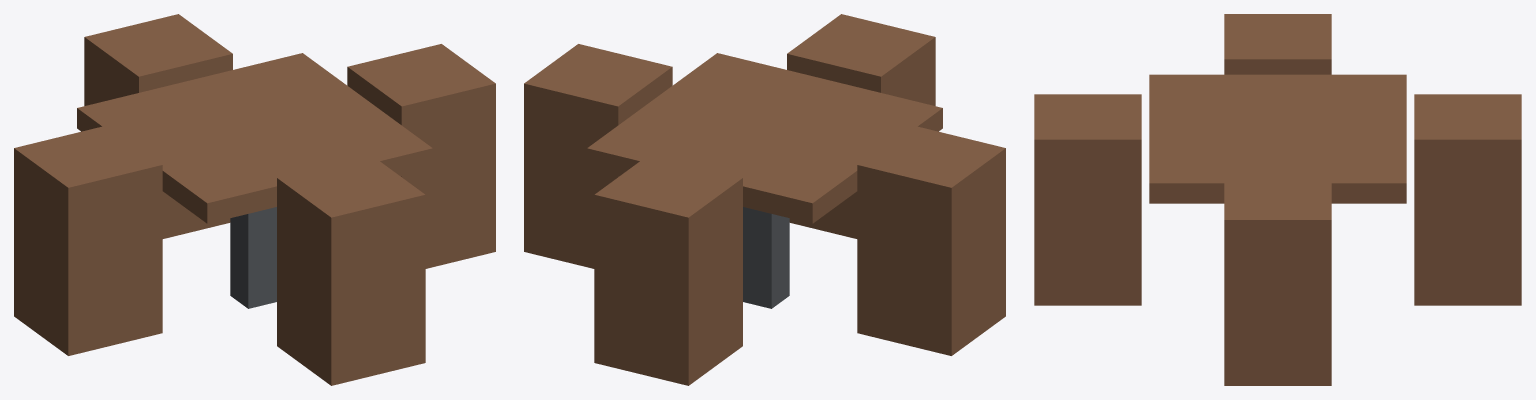
File: bh_cafe_table_chair_set_a_01.glb
The picture shows the model from 3 angles, left to right: view 1: azimuth 30°, elevation 25°; view 2: azimuth 150°, elevation 25°; view 3: azimuth 270°, elevation 25°; orthographic projection.
Visible parts, largest first — view 1: bh_cafe_table_chair_set_a_01_table_top, bh_cafe_table_chair_set_a_01_chair_0, bh_cafe_table_chair_set_a_01_chair_2, bh_cafe_table_chair_set_a_01_chair_1, bh_cafe_table_chair_set_a_01_chair_3, bh_cafe_table_chair_set_a_01_table_base; view 2: bh_cafe_table_chair_set_a_01_table_top, bh_cafe_table_chair_set_a_01_chair_0, bh_cafe_table_chair_set_a_01_chair_3, bh_cafe_table_chair_set_a_01_chair_1, bh_cafe_table_chair_set_a_01_chair_2, bh_cafe_table_chair_set_a_01_table_base; view 3: bh_cafe_table_chair_set_a_01_table_top, bh_cafe_table_chair_set_a_01_chair_1, bh_cafe_table_chair_set_a_01_chair_2, bh_cafe_table_chair_set_a_01_chair_3, bh_cafe_table_chair_set_a_01_chair_0.
Part boxes in pixels (x1=…): bh_cafe_table_chair_set_a_01_table_top: x1=77, y1=53, x2=432, y2=223; bh_cafe_table_chair_set_a_01_chair_0: x1=14, y1=125, x2=162, y2=355; bh_cafe_table_chair_set_a_01_chair_2: x1=277, y1=155, x2=425, y2=385; bh_cafe_table_chair_set_a_01_chair_1: x1=347, y1=44, x2=495, y2=268; bh_cafe_table_chair_set_a_01_chair_3: x1=84, y1=14, x2=232, y2=238; bh_cafe_table_chair_set_a_01_table_base: x1=230, y1=207, x2=276, y2=308; bh_cafe_table_chair_set_a_01_table_top: x1=587, y1=53, x2=942, y2=223; bh_cafe_table_chair_set_a_01_chair_0: x1=857, y1=125, x2=1005, y2=355; bh_cafe_table_chair_set_a_01_chair_3: x1=594, y1=155, x2=742, y2=385; bh_cafe_table_chair_set_a_01_chair_1: x1=524, y1=44, x2=672, y2=268; bh_cafe_table_chair_set_a_01_chair_2: x1=787, y1=14, x2=935, y2=238; bh_cafe_table_chair_set_a_01_table_base: x1=743, y1=207, x2=789, y2=308; bh_cafe_table_chair_set_a_01_table_top: x1=1149, y1=74, x2=1406, y2=203; bh_cafe_table_chair_set_a_01_chair_1: x1=1224, y1=174, x2=1331, y2=385; bh_cafe_table_chair_set_a_01_chair_2: x1=1034, y1=94, x2=1141, y2=305; bh_cafe_table_chair_set_a_01_chair_3: x1=1414, y1=94, x2=1521, y2=305; bh_cafe_table_chair_set_a_01_chair_0: x1=1224, y1=14, x2=1331, y2=74.
Size of the model in its own units: 2.18 by 0.89 by 2.18.
